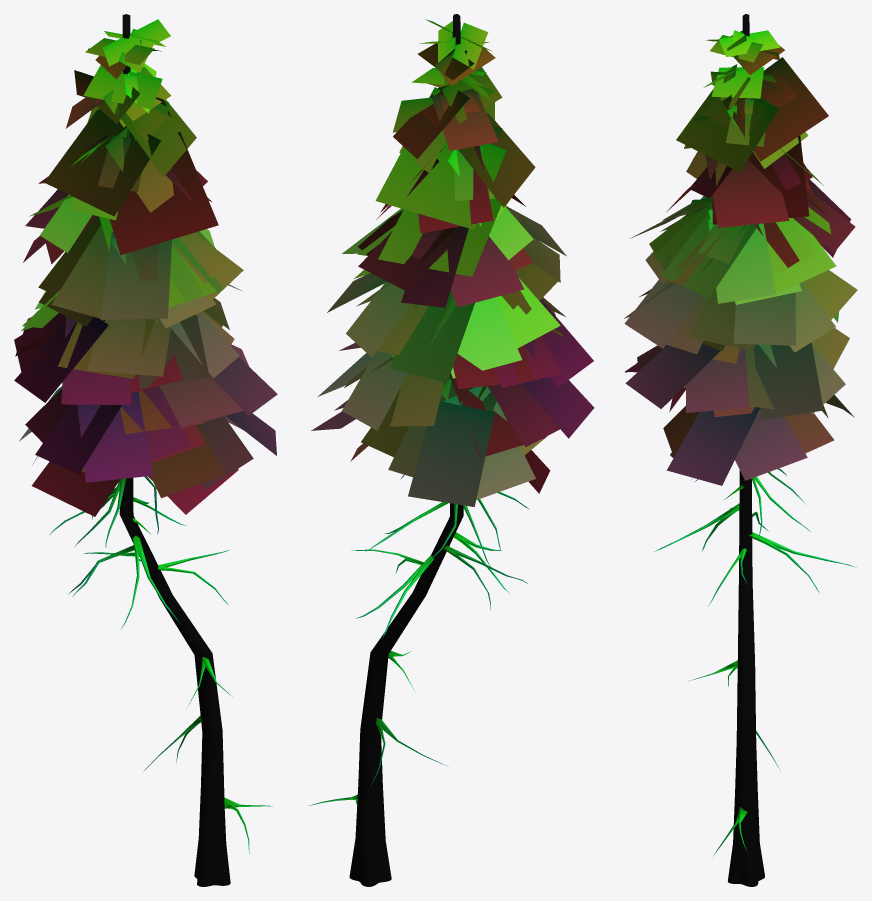
The model's file is M_Pine_4_13.fbx.
3 renders of one model, left to right at view 1: azimuth 30°, elevation 25°; view 2: azimuth 150°, elevation 25°; view 3: azimuth 270°, elevation 25°, orthographic. The views are drawn at different scales.
Visible parts, largest first — view 1: Tree_13; view 2: Tree_13; view 3: Tree_13.
Part boxes in pixels (box(x1,y1,x2,y2)): Tree_13: box(14, 14, 277, 886); Tree_13: box(309, 14, 594, 886); Tree_13: box(624, 14, 857, 886).
Size of the model in its own units: 1010 by 3307 by 852.
